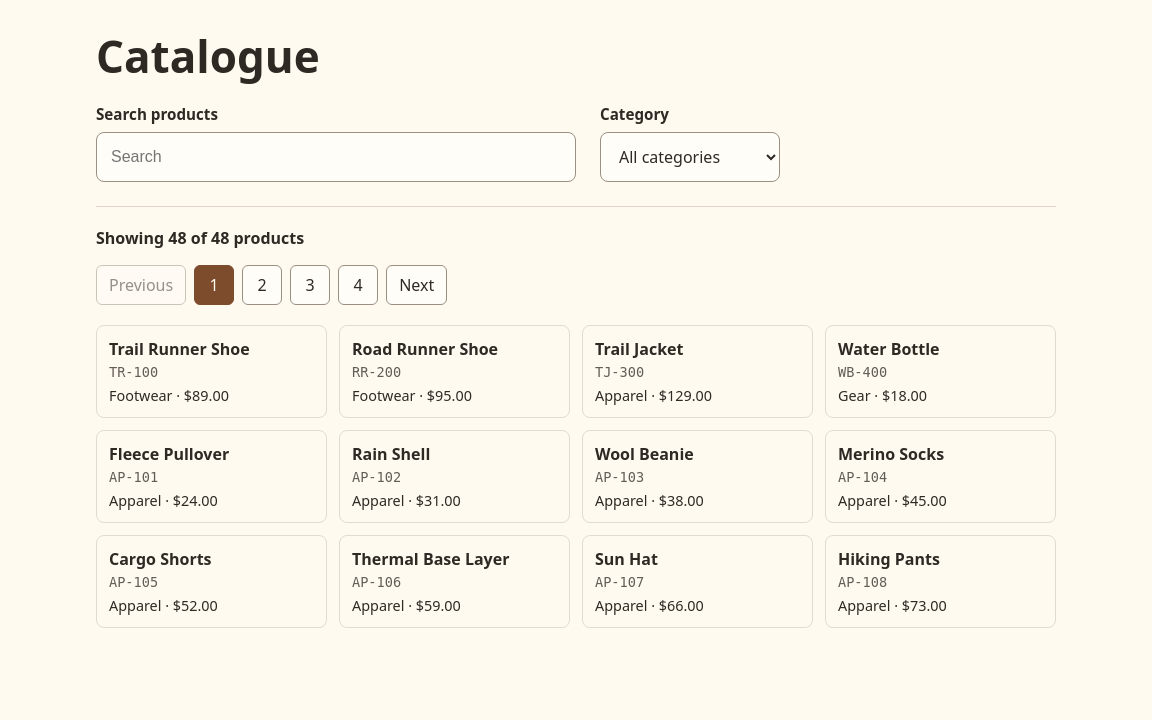
Scenario: Catalog page › filters products and updates the result count
Type "shoe trail" into the field labelled "Search products". click: (336, 157)
box: 96,132 -> 576,182
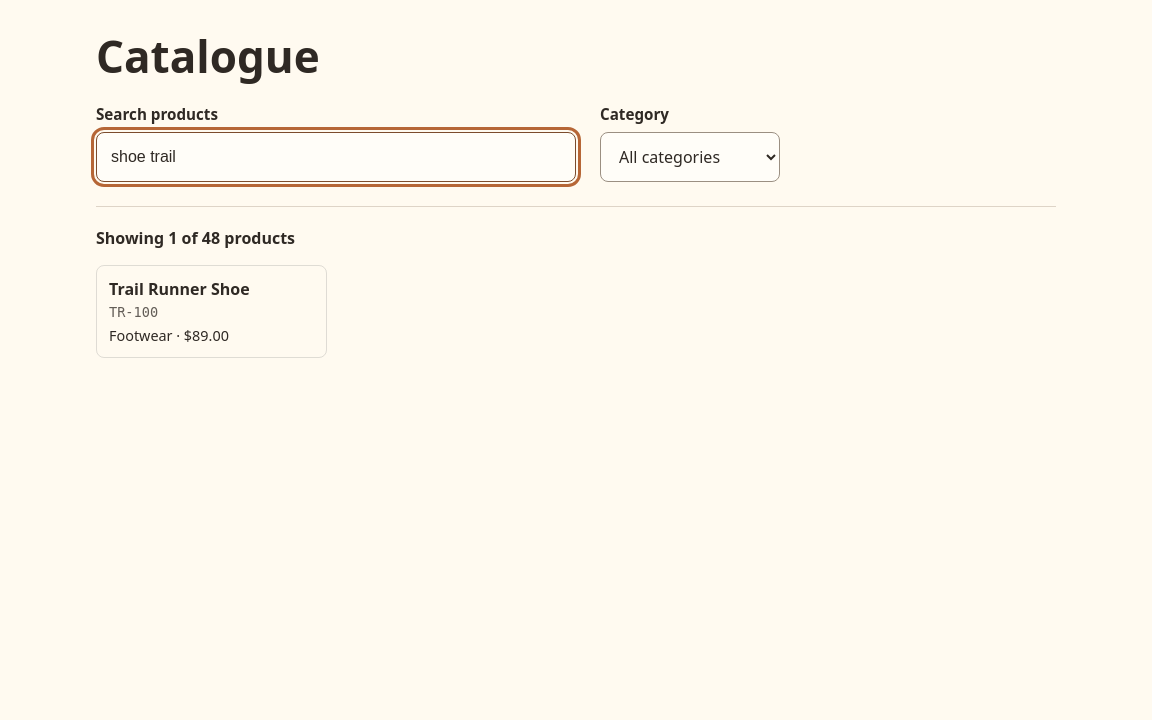
Expected: the heading "Trail Runner Shoe" is shown, 109,278 -> 250,300
Expected: the text "Showing 1 of 48 products" is shown, 96,227 -> 295,249
